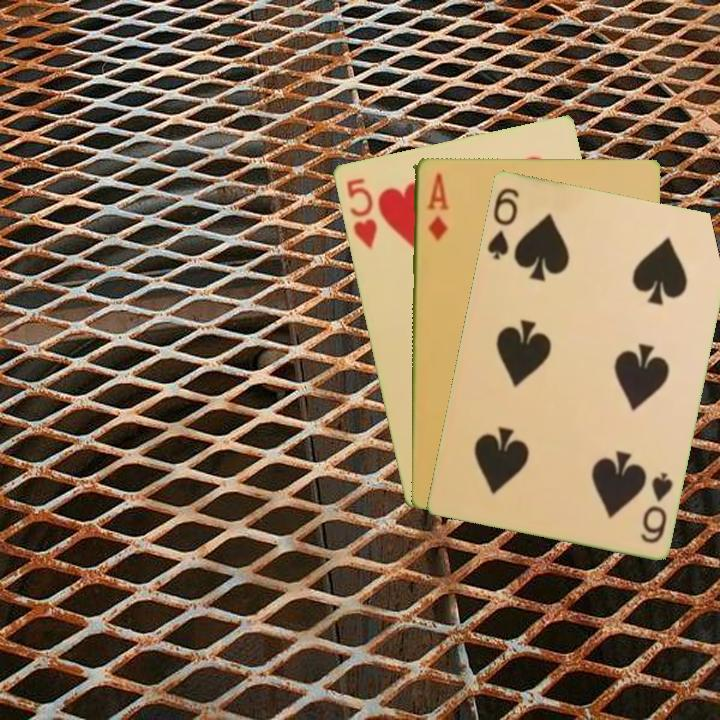5h: (342, 174, 380, 251)
6s: (636, 467, 676, 546), (483, 183, 522, 262)
Ad: (422, 168, 451, 242)
